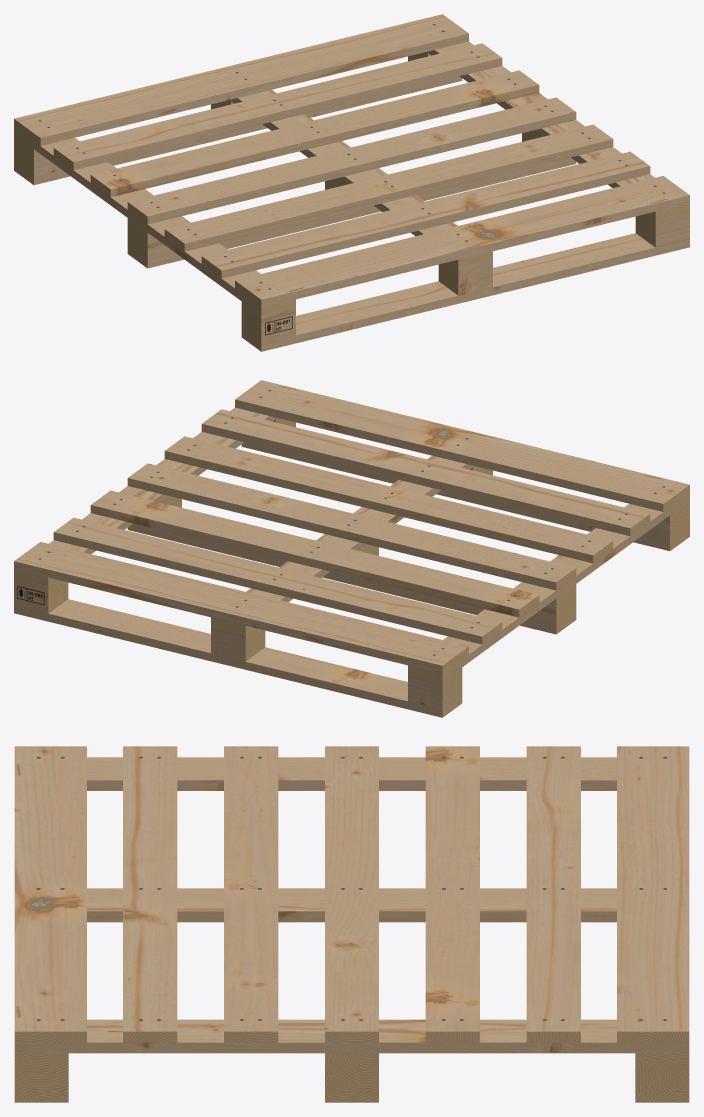
The model's file is pw03-pinewood-pallet-1120x1120.glb.
The picture shows the model from 3 angles, top to bottom: view 1: azimuth 30°, elevation 25°; view 2: azimuth 150°, elevation 25°; view 3: azimuth 270°, elevation 25°; orthographic projection. The views are drawn at different scales.
Visible parts, largest first — view 1: pw03-pinewood-pallet-1120x1120; view 2: pw03-pinewood-pallet-1120x1120; view 3: pw03-pinewood-pallet-1120x1120.
Part boxes in pixels (bbox=[...]): pw03-pinewood-pallet-1120x1120: bbox=[14, 14, 689, 351]; pw03-pinewood-pallet-1120x1120: bbox=[14, 380, 689, 717]; pw03-pinewood-pallet-1120x1120: bbox=[14, 746, 689, 1102].
Bounding box in the file's own units: 1.12 × 0.131 × 1.12.
Materials: 4 (3 with a texture image).
